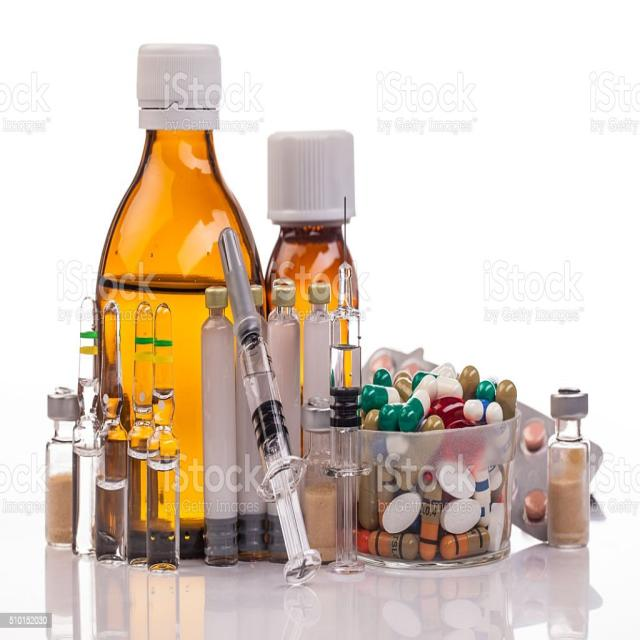B3: (91, 12, 276, 284), (317, 180, 371, 604), (259, 105, 365, 320), (88, 294, 136, 573), (89, 296, 133, 564), (145, 293, 184, 582), (126, 294, 163, 587), (542, 379, 596, 559), (38, 378, 88, 558), (71, 295, 103, 565)
